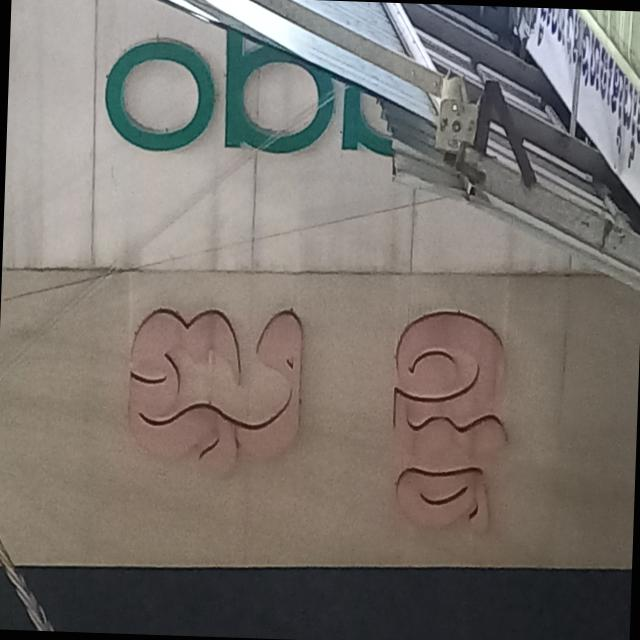Yolov11_80vkh: (107, 264, 544, 538)
